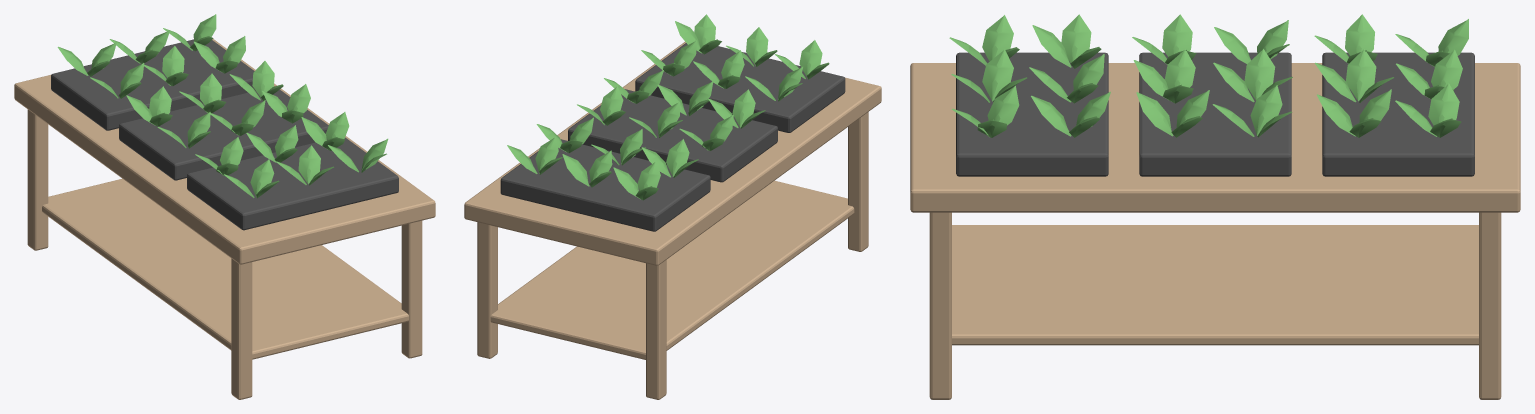
The model's file is pflanztisch.glb.
3 views of the same model, side by side, from view 1: azimuth 30°, elevation 25°; view 2: azimuth 150°, elevation 25°; view 3: azimuth 270°, elevation 25° (orthographic). The views are drawn at different scales.
Visible parts, largest first — view 1: pflanztisch_lod0; view 2: pflanztisch_lod0; view 3: pflanztisch_lod0.
Part boxes in pixels (x1,y1,x2,y2): pflanztisch_lod0: [14, 14, 435, 399]; pflanztisch_lod0: [464, 14, 881, 399]; pflanztisch_lod0: [910, 14, 1520, 399].
Size of what is drawn, in the model's own units: 3 by 2.97 by 6.
